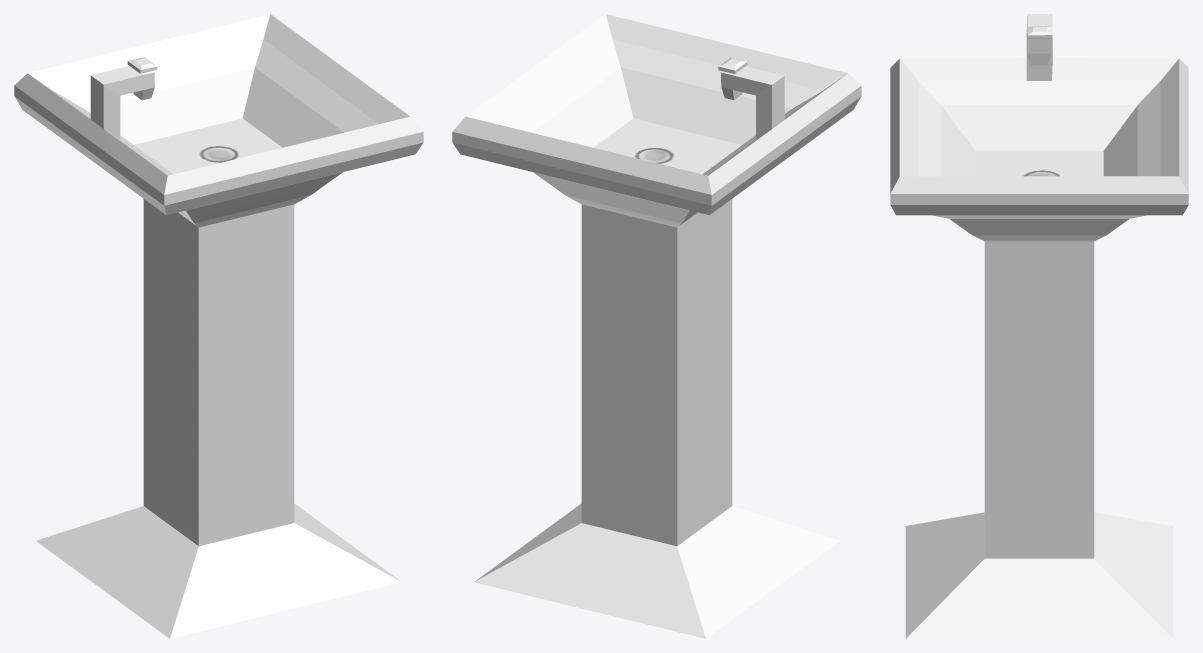
File: sink.obj
3 renders of one model, left to right at view 1: azimuth 30°, elevation 25°; view 2: azimuth 150°, elevation 25°; view 3: azimuth 270°, elevation 25°, orthographic.
Visible parts, largest first — view 1: Cube; view 2: Cube; view 3: Cube.
Part boxes in pixels (x1,y1,x2,y2): Cube: (14,14,423,638); Cube: (452,14,861,638); Cube: (890,14,1188,638).
Bounding box in the file's own units: 0.5481 × 1.05 × 0.5481.
Materials: 1 (1 with a texture image).
